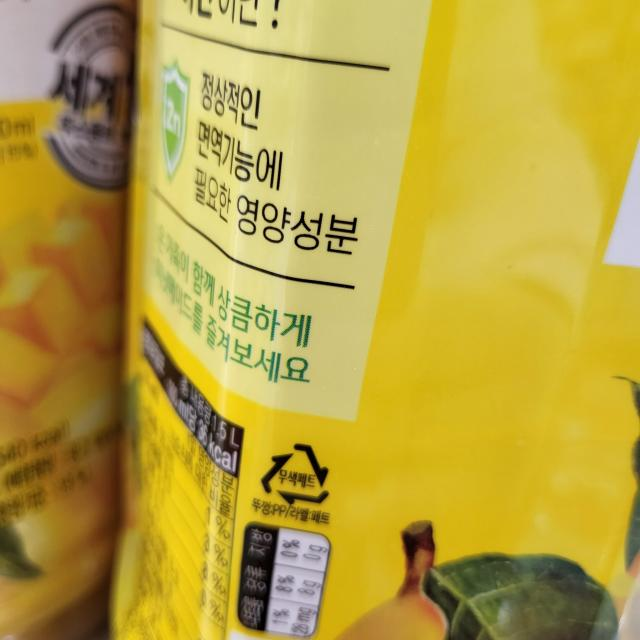ColorlessPET: (259, 439, 334, 509)
